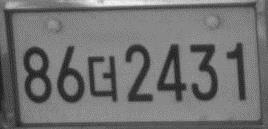1: (224, 40, 249, 102)
2: (123, 43, 155, 102)
3: (187, 42, 219, 101)
4: (154, 42, 187, 102)
6: (55, 44, 85, 102)
8: (21, 44, 53, 103)
더: (86, 54, 119, 102)
